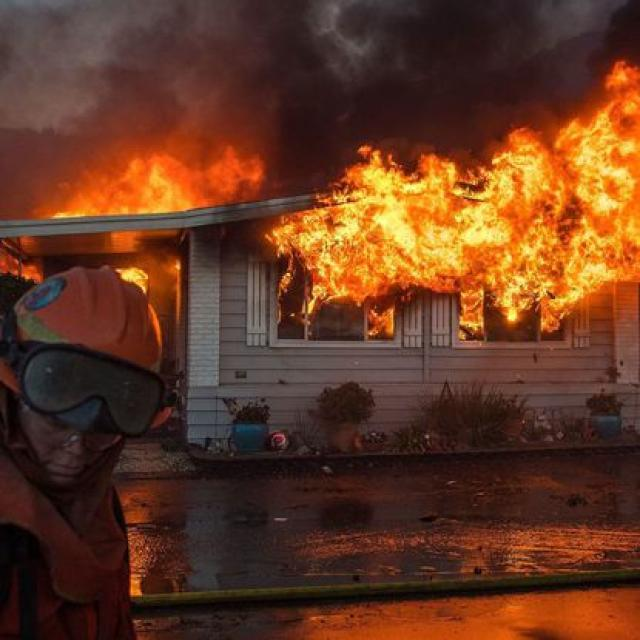Fire: (483, 62, 638, 337), (276, 148, 482, 334), (44, 143, 264, 244)
Smoke: (277, 0, 570, 150), (0, 0, 275, 142)
